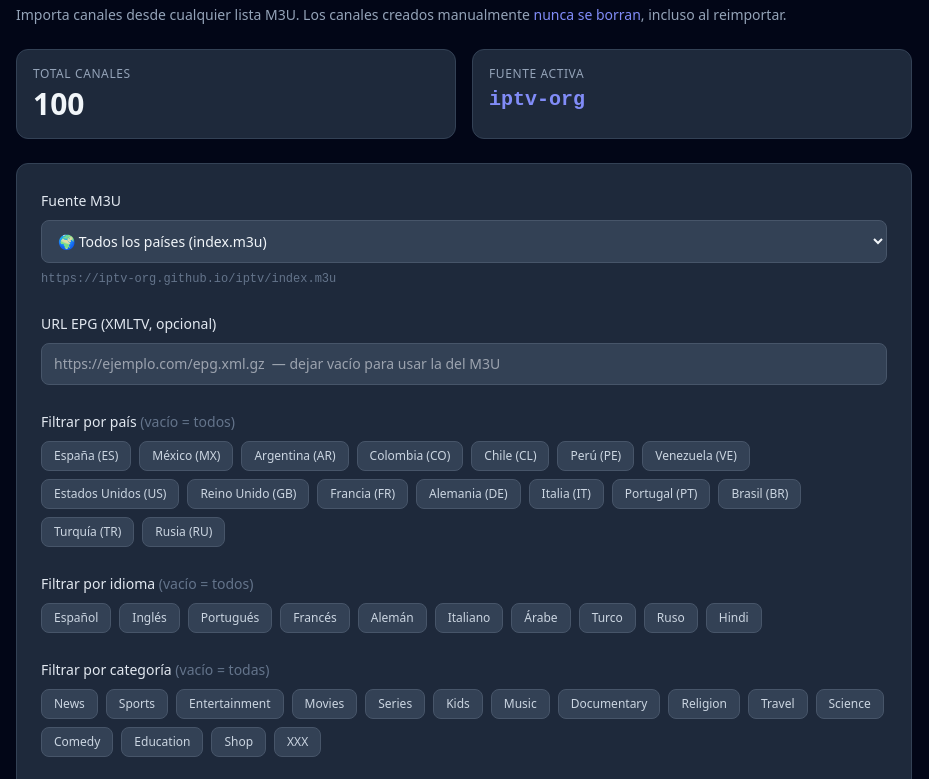
Test: IPTVPage › toggles category filter
The image size is (929, 779).
What coordinates should you click on to do the following:
click the button "News"
I would click on:
 (69, 704)
Its box is [41,689,98,719].
(page scrolled)
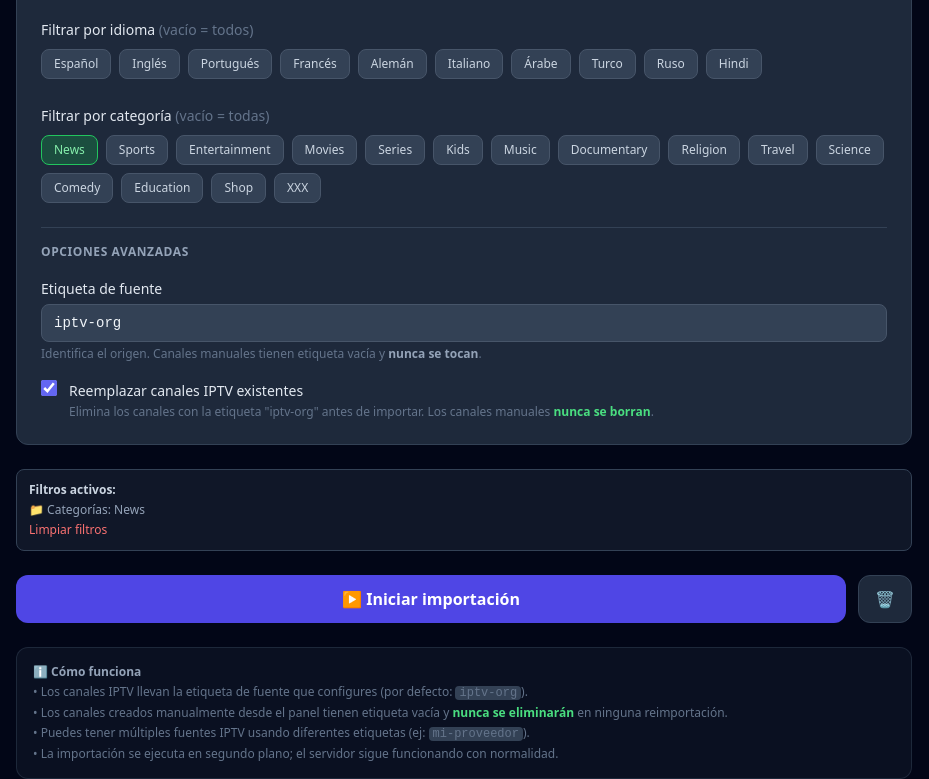
Now the text "Filtros activos:" is shown, box [29,481,116,498]
